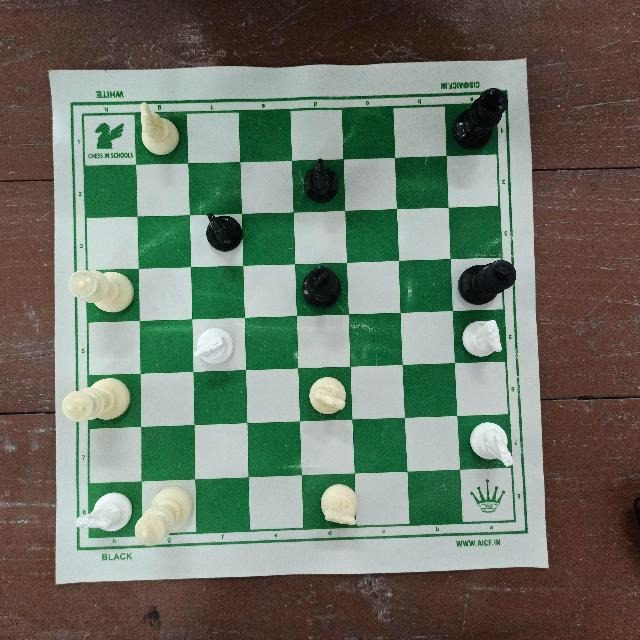black-king: (449, 83, 510, 153), (459, 255, 521, 305), (295, 265, 351, 317)
black-knight: (192, 210, 244, 262), (298, 157, 340, 203)
white-king: (128, 483, 195, 548), (61, 376, 130, 428)
white-knight: (72, 486, 135, 544), (132, 94, 181, 160), (316, 479, 366, 536), (188, 319, 240, 373), (466, 422, 518, 468), (301, 377, 351, 418), (459, 318, 507, 360)
white-queen: (63, 262, 139, 318)
